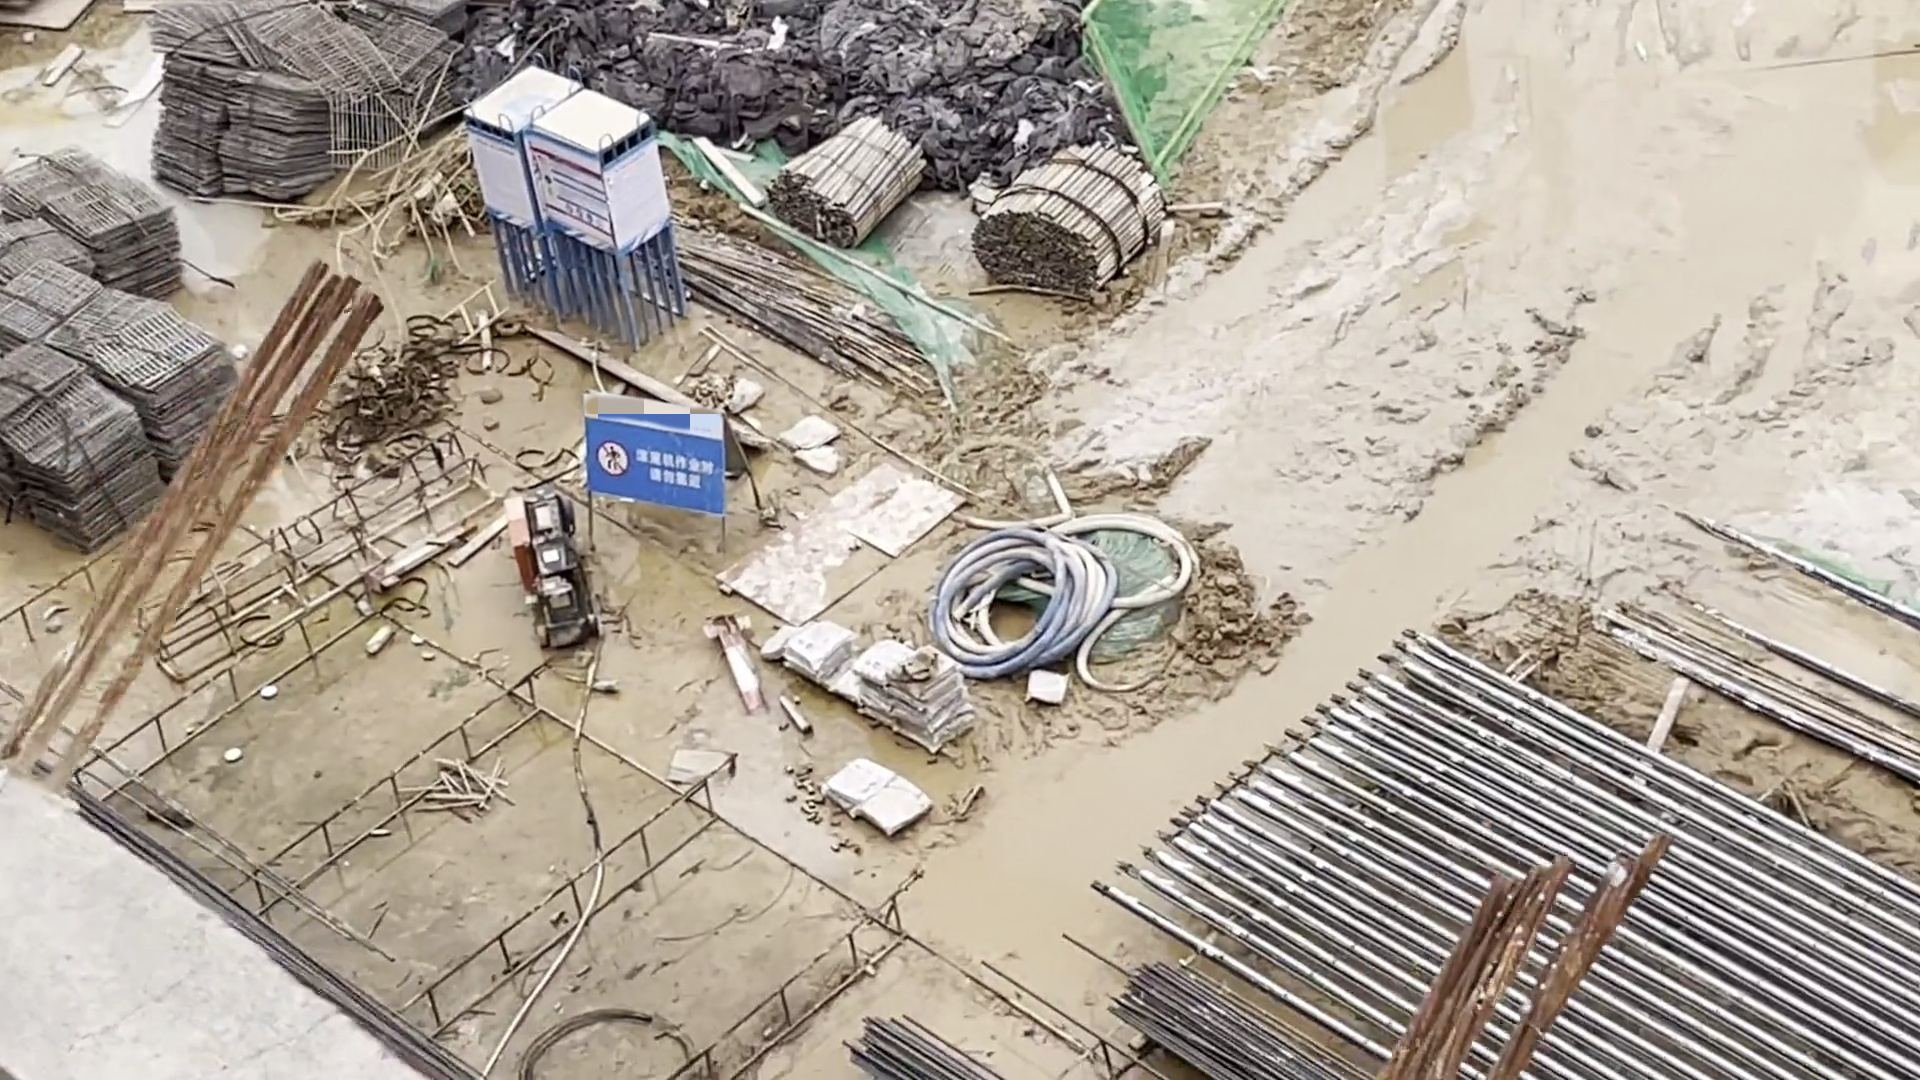slogan: (589, 426, 744, 498)
wood: (969, 137, 1164, 297), (764, 115, 930, 252)
